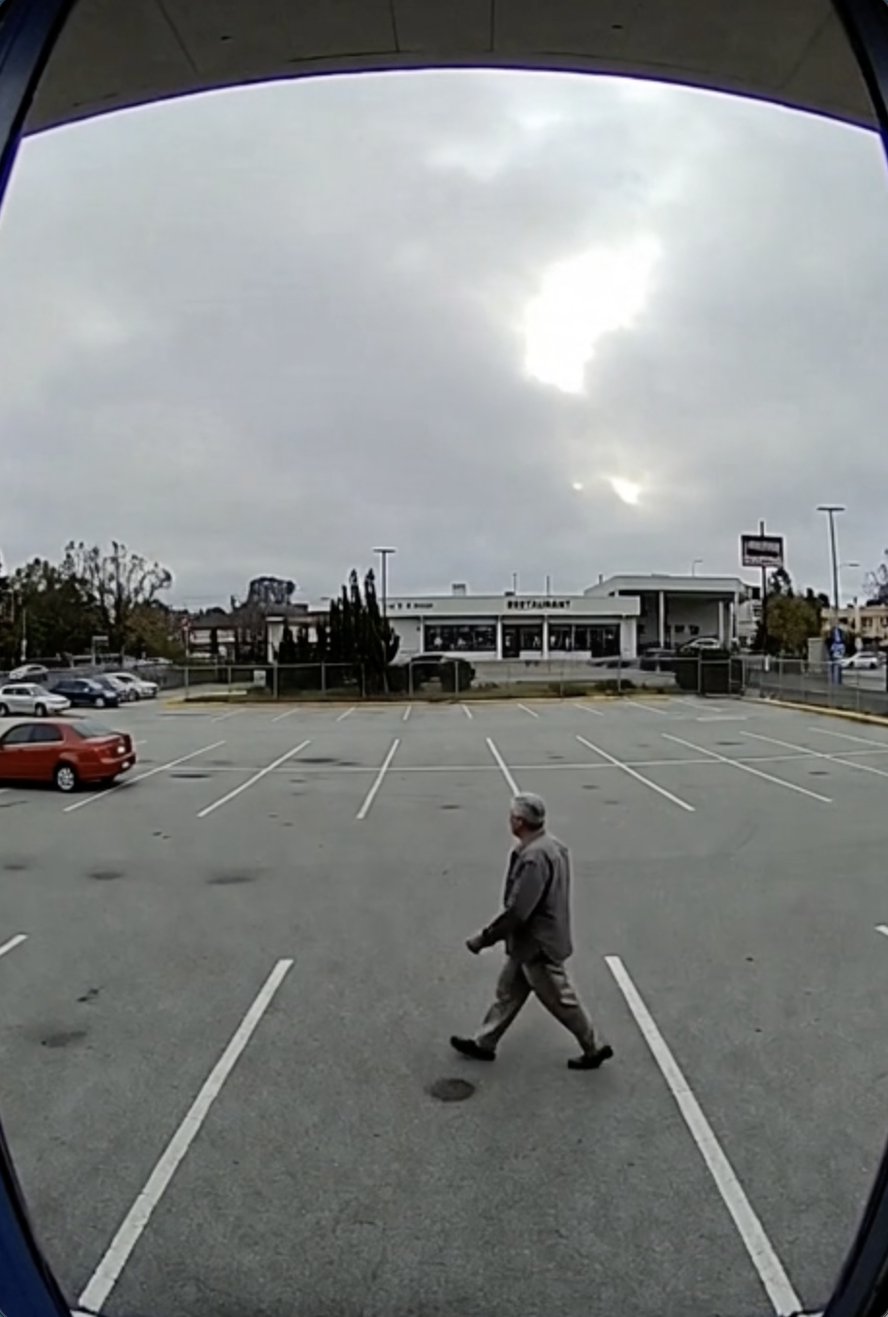Heavy Gun: (441, 798, 628, 1069)
